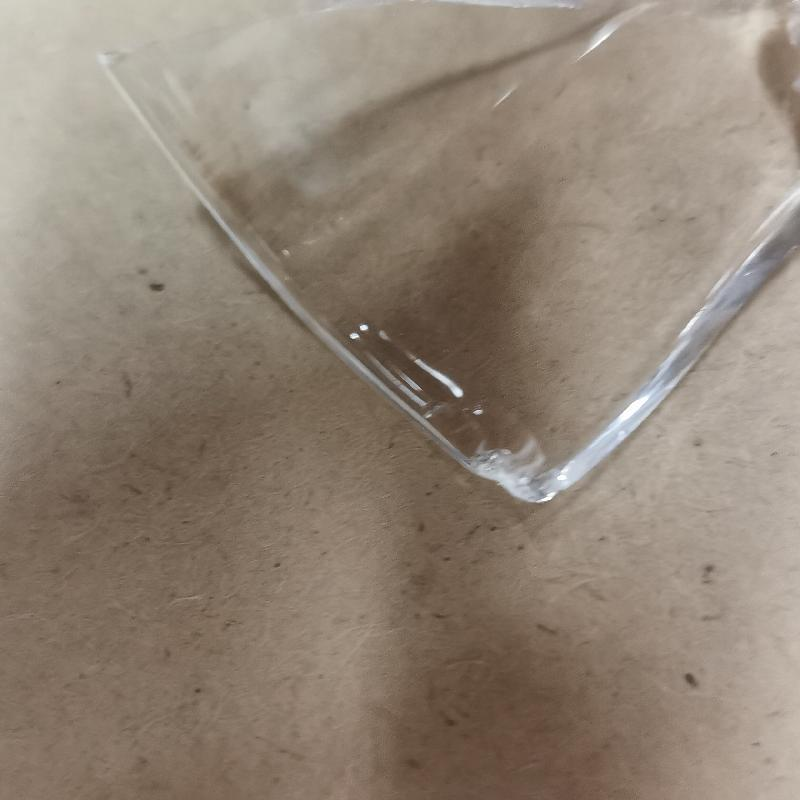glass: (99, 9, 800, 505)
